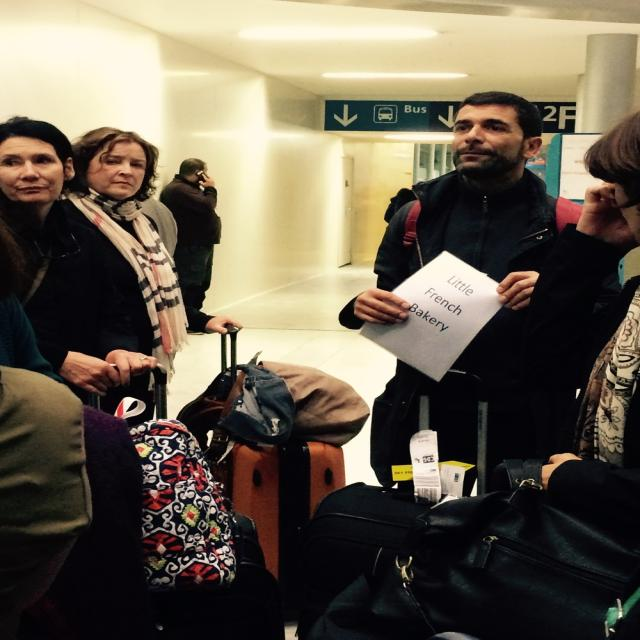body: (337, 90, 588, 495), (526, 106, 639, 640), (0, 113, 156, 418), (46, 126, 188, 428), (157, 158, 223, 312)
